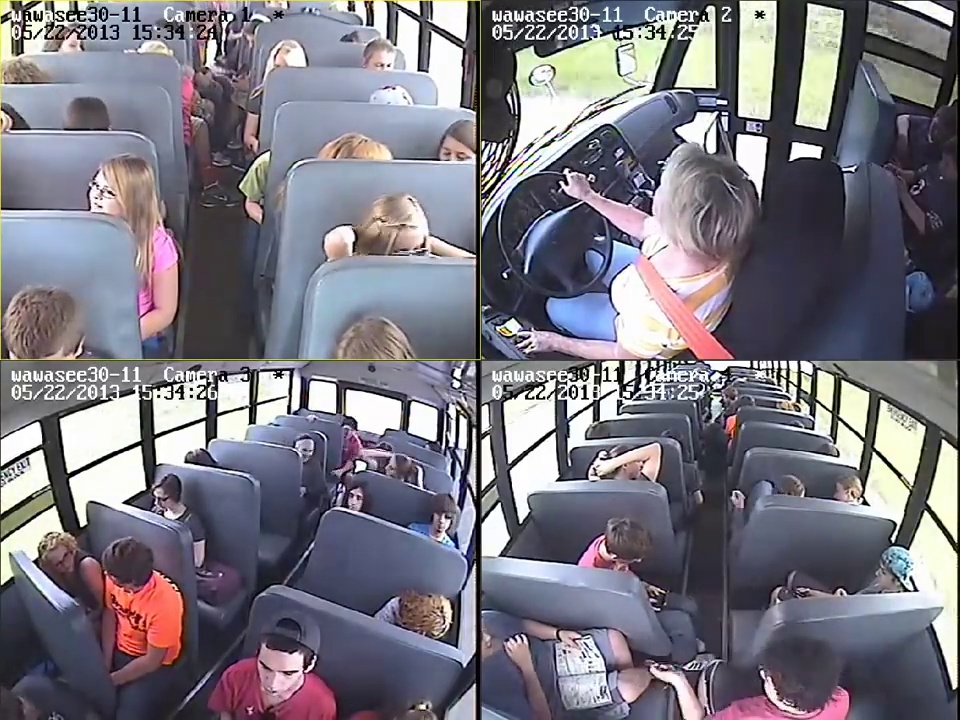face: (258, 640, 297, 706), (83, 168, 130, 214), (420, 502, 454, 534), (42, 547, 77, 576), (151, 486, 175, 509), (295, 440, 318, 463), (348, 485, 366, 512)
